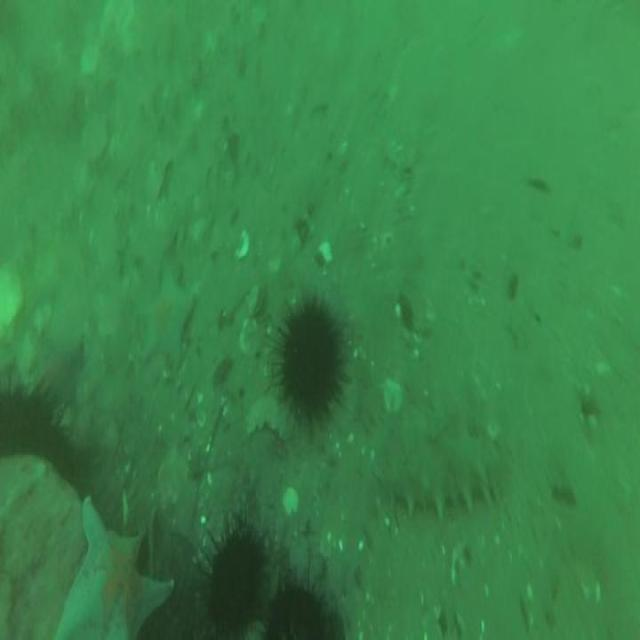echinus: (279, 303, 342, 414), (208, 532, 259, 638), (3, 394, 63, 456), (267, 581, 321, 640)
holothurian: (378, 428, 498, 517)
starfish: (53, 499, 175, 640), (139, 272, 193, 363)
